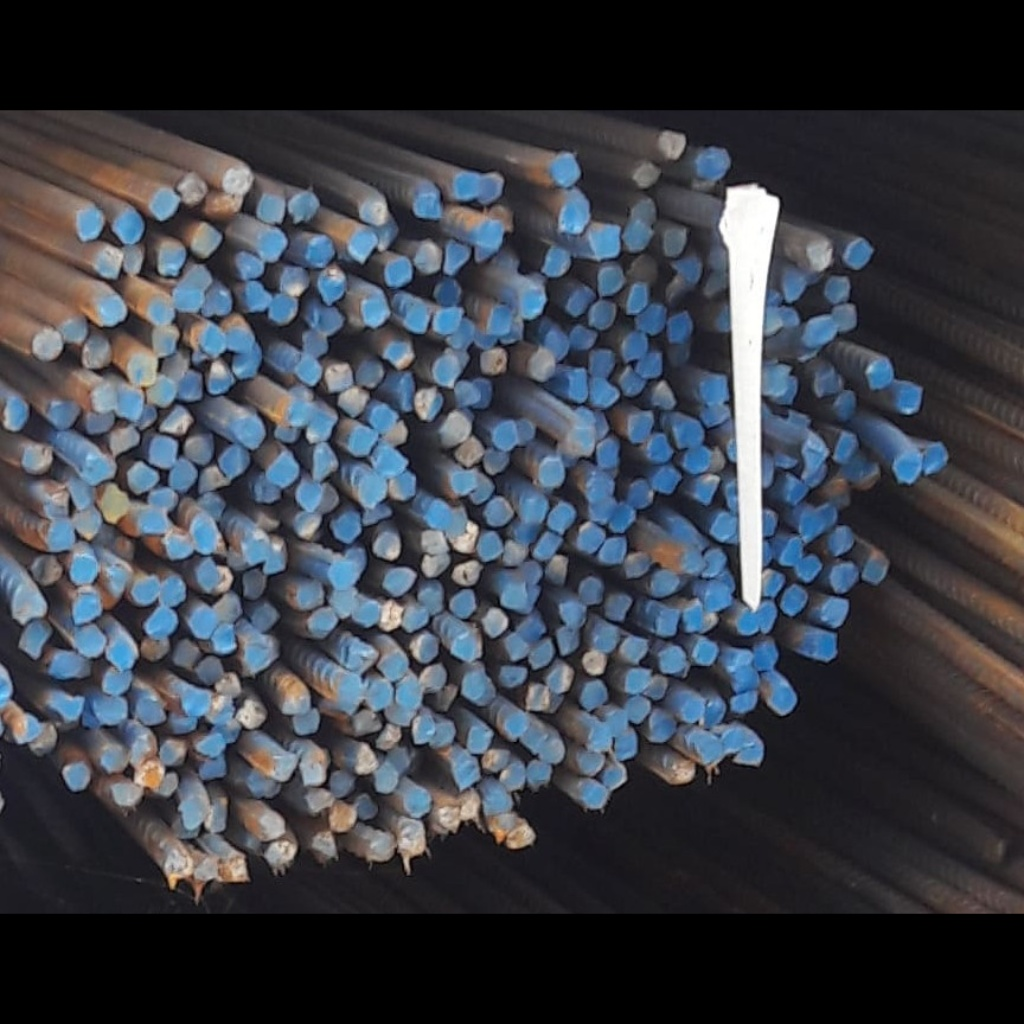dipstick: (559, 195, 591, 233), (189, 222, 222, 256), (696, 148, 730, 181), (461, 670, 496, 702), (248, 810, 285, 840), (266, 453, 298, 487), (91, 694, 125, 726), (241, 638, 272, 673), (587, 224, 618, 259), (316, 267, 346, 303), (49, 651, 90, 677), (360, 470, 388, 508), (82, 335, 110, 373), (125, 353, 157, 386), (113, 208, 144, 242), (219, 443, 250, 477), (681, 599, 715, 630), (340, 640, 379, 667), (72, 590, 101, 626), (103, 481, 129, 521), (414, 239, 442, 276), (190, 515, 218, 552), (398, 818, 426, 855), (803, 316, 836, 347), (549, 152, 579, 186), (267, 295, 302, 324), (800, 436, 824, 478), (361, 291, 388, 328), (451, 629, 482, 661), (393, 370, 416, 413), (48, 692, 82, 721), (312, 443, 338, 480), (238, 413, 264, 450), (21, 444, 52, 475), (145, 606, 176, 637), (374, 446, 406, 476), (47, 399, 79, 429), (382, 567, 414, 597), (336, 672, 360, 712), (621, 221, 653, 251), (517, 490, 546, 523), (107, 636, 136, 669), (13, 590, 46, 619), (804, 238, 832, 272), (385, 337, 416, 367), (157, 241, 186, 273), (292, 478, 321, 510), (309, 608, 338, 640), (402, 785, 431, 817), (452, 754, 481, 786), (590, 376, 619, 408), (672, 419, 704, 448), (2, 394, 27, 431), (116, 386, 144, 419), (21, 622, 49, 655), (246, 769, 279, 797), (348, 229, 374, 264), (207, 359, 232, 395), (34, 330, 64, 360), (74, 626, 104, 656), (446, 317, 475, 348), (126, 464, 157, 493), (162, 529, 193, 558), (199, 324, 227, 356), (148, 434, 176, 466), (169, 459, 197, 491), (280, 681, 308, 713), (648, 711, 676, 743), (814, 366, 842, 398), (647, 567, 680, 594), (626, 410, 653, 443), (330, 555, 356, 589), (189, 606, 215, 640), (308, 235, 333, 270), (280, 266, 309, 296), (432, 306, 462, 335), (440, 413, 469, 443), (329, 513, 359, 542), (542, 246, 571, 276), (658, 131, 688, 160), (779, 585, 808, 615), (807, 632, 836, 662), (843, 238, 873, 267), (337, 388, 368, 416), (830, 561, 858, 592), (96, 293, 123, 325), (296, 356, 323, 388), (432, 354, 459, 386), (219, 852, 246, 884), (769, 683, 796, 715), (832, 431, 859, 463), (77, 206, 103, 239), (444, 240, 470, 273), (702, 373, 728, 406), (222, 165, 251, 194), (288, 193, 317, 222), (357, 197, 386, 226), (173, 283, 202, 312), (324, 362, 353, 391), (181, 688, 210, 717), (178, 175, 206, 205), (258, 231, 286, 261), (349, 425, 376, 456), (71, 554, 98, 585), (131, 574, 158, 605), (411, 634, 442, 661), (585, 474, 616, 501), (626, 257, 657, 284), (637, 303, 664, 334), (893, 451, 920, 482), (107, 560, 129, 598), (80, 456, 113, 481), (161, 406, 190, 434), (546, 503, 574, 532), (136, 695, 164, 724), (564, 288, 592, 317), (314, 305, 341, 335), (186, 434, 213, 464), (295, 579, 325, 606), (622, 549, 649, 579), (414, 388, 440, 419), (33, 553, 59, 584), (65, 760, 91, 791), (822, 597, 848, 628), (481, 789, 513, 814), (590, 298, 615, 330), (566, 367, 587, 405), (922, 443, 946, 476), (256, 194, 284, 222), (414, 193, 442, 221), (385, 257, 413, 285), (308, 414, 336, 442), (329, 589, 357, 617), (558, 602, 586, 630), (150, 189, 177, 218), (66, 480, 93, 509), (71, 509, 100, 536), (449, 589, 476, 618), (11, 717, 40, 744), (705, 581, 732, 610), (653, 465, 680, 494), (233, 348, 259, 378), (101, 669, 131, 695), (100, 745, 130, 771), (628, 199, 658, 225), (631, 163, 661, 189), (355, 362, 386, 387), (487, 495, 512, 526), (49, 520, 74, 551), (329, 798, 354, 829), (581, 680, 606, 711), (654, 605, 679, 636), (867, 357, 892, 388), (520, 285, 544, 317), (739, 734, 763, 766), (754, 638, 778, 670), (782, 270, 805, 303), (864, 552, 887, 585), (110, 426, 138, 453), (239, 570, 266, 598), (658, 644, 685, 672), (577, 525, 605, 552), (597, 265, 624, 293), (850, 464, 878, 491), (235, 252, 264, 278), (432, 279, 461, 305), (476, 533, 502, 562), (181, 797, 207, 826), (689, 638, 718, 664), (824, 480, 850, 509), (622, 331, 647, 361), (830, 391, 855, 421), (823, 273, 848, 303), (421, 581, 443, 615), (96, 247, 120, 278), (529, 348, 553, 379), (126, 734, 150, 765), (299, 752, 323, 783), (762, 366, 786, 397), (522, 721, 545, 753), (475, 220, 503, 246), (373, 532, 399, 560), (157, 738, 183, 766), (239, 699, 265, 727), (366, 679, 392, 707), (433, 805, 459, 833), (696, 740, 724, 766), (600, 536, 626, 564), (661, 226, 687, 254), (690, 475, 718, 501), (708, 512, 734, 540), (145, 297, 174, 322), (91, 382, 116, 411), (42, 488, 67, 517), (158, 577, 183, 606), (353, 709, 382, 734), (548, 663, 573, 692), (378, 213, 397, 251), (538, 457, 562, 487), (397, 677, 421, 707), (205, 194, 239, 215), (195, 557, 216, 591), (404, 303, 427, 334), (530, 638, 553, 669), (779, 535, 802, 566), (266, 536, 285, 573), (205, 288, 231, 315), (241, 282, 267, 309), (152, 327, 178, 354), (60, 315, 86, 342), (534, 532, 561, 558), (138, 508, 165, 534), (214, 594, 240, 621), (292, 709, 318, 736), (368, 830, 395, 856), (587, 349, 613, 376), (667, 311, 693, 338), (781, 477, 808, 503), (226, 327, 254, 352), (286, 400, 314, 425), (381, 651, 406, 679), (466, 724, 491, 752), (676, 696, 704, 721), (547, 329, 568, 362), (663, 279, 693, 302), (461, 784, 480, 820), (757, 598, 776, 634), (478, 175, 500, 206), (493, 419, 515, 450), (376, 763, 398, 794), (800, 509, 822, 540), (452, 173, 478, 199), (206, 695, 232, 721), (624, 695, 650, 721), (424, 501, 449, 528), (374, 724, 401, 749), (581, 783, 608, 808), (625, 667, 650, 694), (570, 327, 597, 352), (491, 203, 515, 231), (164, 353, 188, 381), (296, 510, 320, 538), (355, 741, 376, 773), (483, 608, 507, 636), (576, 749, 604, 773), (598, 439, 619, 471), (570, 427, 594, 455), (452, 561, 481, 584), (35, 724, 58, 753), (628, 480, 651, 509), (624, 283, 647, 312), (112, 782, 142, 804), (265, 839, 295, 861), (650, 432, 672, 462), (487, 305, 508, 336), (146, 488, 177, 509), (372, 406, 398, 431), (253, 605, 278, 631), (196, 658, 222, 683), (311, 830, 336, 856), (420, 664, 446, 689), (517, 616, 542, 642), (457, 438, 481, 465), (387, 476, 414, 500), (421, 530, 448, 554), (199, 758, 226, 782), (611, 503, 635, 530), (759, 570, 783, 597), (178, 372, 201, 400), (174, 640, 197, 668), (139, 638, 168, 660), (210, 721, 239, 743), (411, 715, 433, 744), (728, 689, 757, 711), (450, 468, 475, 493), (593, 625, 618, 650), (254, 475, 278, 501), (423, 553, 449, 577), (196, 733, 222, 757), (272, 753, 296, 779), (503, 634, 527, 660), (587, 725, 613, 749), (579, 576, 603, 602), (734, 608, 758, 634), (151, 379, 174, 406), (481, 349, 504, 376), (84, 411, 111, 434), (526, 685, 549, 712), (833, 303, 856, 330), (456, 523, 476, 554), (305, 789, 333, 811), (621, 367, 643, 395), (379, 599, 400, 628), (653, 382, 674, 411), (303, 333, 328, 357), (246, 534, 266, 564), (501, 663, 526, 687), (668, 759, 693, 783), (455, 381, 478, 407), (404, 604, 427, 630), (356, 598, 379, 624), (164, 852, 187, 878), (503, 712, 526, 738), (797, 554, 820, 580), (827, 526, 850, 552), (897, 385, 920, 411), (122, 247, 144, 274), (705, 549, 727, 576), (590, 500, 617, 522), (502, 762, 523, 790), (616, 732, 637, 760), (137, 762, 161, 786), (199, 493, 224, 516), (606, 594, 629, 619), (483, 450, 509, 472), (682, 449, 708, 471), (362, 507, 389, 528), (513, 525, 540, 546), (558, 626, 579, 653), (471, 476, 491, 504), (545, 558, 565, 586), (760, 453, 775, 490), (489, 813, 513, 836), (677, 254, 700, 278), (622, 636, 644, 661), (214, 625, 235, 651), (483, 750, 509, 771), (719, 726, 740, 752), (209, 800, 225, 834), (701, 407, 731, 425), (667, 342, 690, 365), (520, 560, 542, 584), (680, 552, 704, 574), (501, 585, 526, 606), (170, 713, 195, 734), (526, 762, 551, 783), (733, 668, 758, 689), (705, 270, 726, 295), (183, 266, 210, 285), (504, 316, 523, 343), (705, 700, 724, 727), (604, 763, 626, 786), (638, 354, 661, 376), (541, 739, 562, 763), (437, 683, 455, 711), (708, 448, 726, 476), (508, 827, 533, 847), (765, 305, 782, 334), (516, 417, 534, 444), (194, 858, 216, 880), (218, 673, 239, 696), (387, 749, 410, 770), (782, 374, 797, 405), (158, 771, 178, 794), (356, 795, 376, 818), (436, 719, 453, 746), (725, 651, 752, 668), (715, 304, 732, 331), (331, 771, 350, 795), (606, 709, 625, 733), (448, 508, 464, 536), (724, 480, 738, 512), (707, 247, 727, 269), (256, 514, 280, 532), (321, 487, 336, 515), (584, 650, 603, 672), (762, 510, 777, 536), (503, 542, 525, 559), (476, 246, 494, 264), (650, 676, 667, 695), (478, 378, 489, 406), (820, 506, 835, 526)
